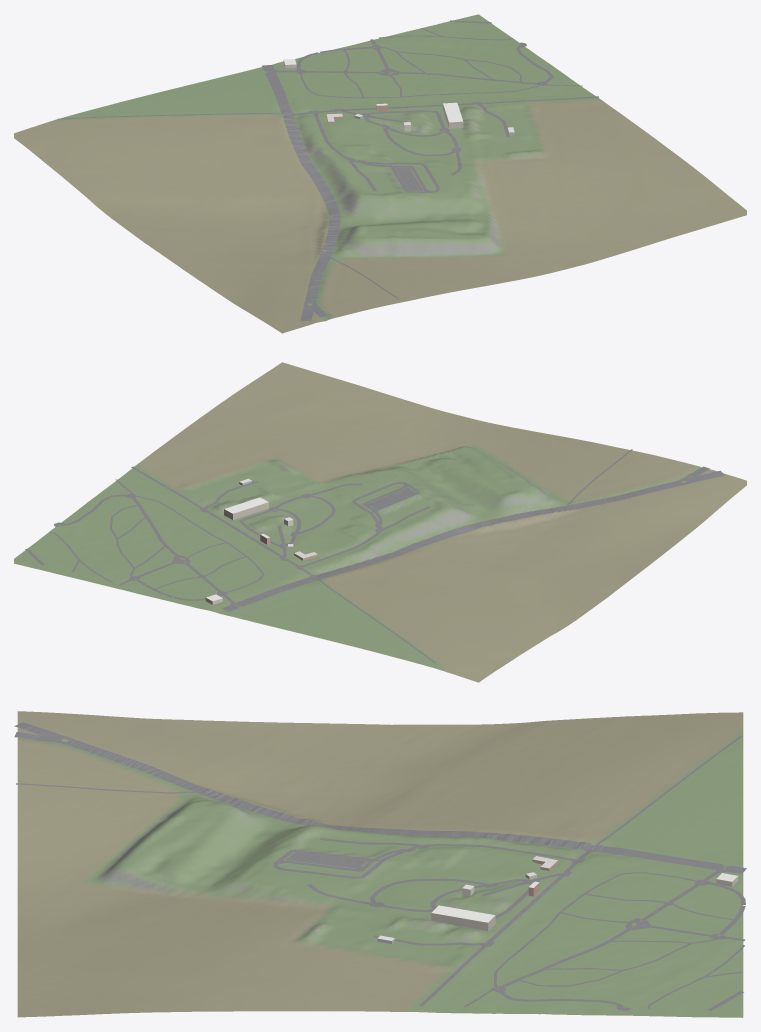
3 views of the same model, one above another, from view 1: azimuth 30°, elevation 25°; view 2: azimuth 150°, elevation 25°; view 3: azimuth 270°, elevation 25° (orthographic). The views are drawn at different scales.
Visible parts, largest first — view 1: prim0, prim2, prim1; view 2: prim0, prim2, prim1; view 3: prim0, prim2, prim1.
Part boxes in pixels (left/top/right/bottom): prim0: left=14, top=14, right=746, bottom=333; prim2: left=58, top=20, right=598, bottom=321; prim1: left=283, top=59, right=514, bottom=134; prim0: left=14, top=362, right=746, bottom=682; prim2: left=25, top=449, right=724, bottom=662; prim1: left=205, top=478, right=317, bottom=604; prim0: left=17, top=711, right=743, bottom=1017; prim2: left=14, top=722, right=746, bottom=1010; prim1: left=377, top=856, right=738, bottom=943.
Bounding box in the file's own units: 516 × 30.18 × 517.
